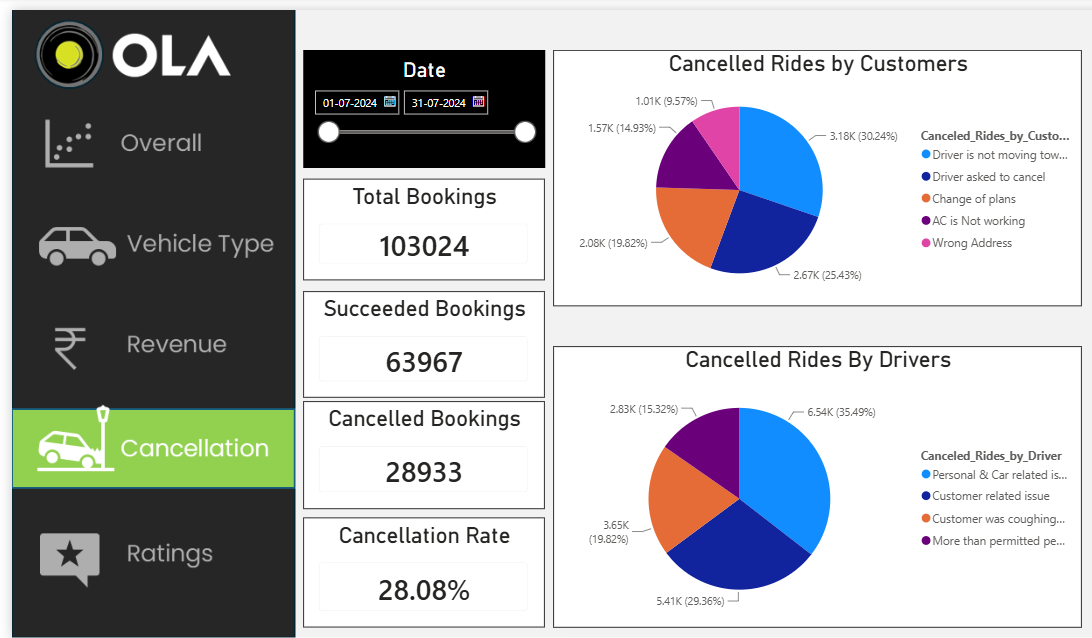

Layout of this report page (visuals, bound fields, positions):
{"tool":"powerbi","page":{"name":"Cancellation","canvas":[1280,720],"ordinal":3},"visuals":[{"type":"actionButton","box":[0,222,323.3,86.9],"z":0},{"type":"actionButton","box":[0,340,322.4,87.1],"z":1000},{"type":"actionButton","box":[0,580,322.4,96.5],"z":2000},{"type":"actionButton","box":[1.2,112.5,322.5,87.5],"z":3000},{"type":"pieChart","title":"Cancelled Rides by Customers","fields":{"Y":["CountNonNull(July.Canceled_Rides_by_Customer)"],"Category":["July.Canceled_Rides_by_Customer"]},"box":[618.6,45.7,604.3,292.9],"z":4000},{"type":"pieChart","title":"Cancelled Rides By Drivers","fields":{"Category":["July.Canceled_Rides_by_Driver"],"Y":["CountNonNull(July.Canceled_Rides_by_Driver)"]},"box":[618.6,384.3,604.3,321.4],"z":5000},{"type":"slicer","title":"Date","fields":{"Values":["July.Date"]},"box":[332.9,45.7,275.7,134.3],"z":6000},{"type":"cardVisual","title":"Total Bookings","fields":{"Data":["July.Total Bokings"]},"box":[332.9,192.9,275.7,115.7],"z":7000},{"type":"cardVisual","title":"Succeeded Bookings","fields":{"Data":["July.Total Bokings"]},"box":[332.9,321.4,275.7,121.4],"z":8000},{"type":"cardVisual","title":"Cancelled Bookings","fields":{"Data":["July.Total Bokings"]},"box":[332.9,447.1,275.7,122.9],"z":9000},{"type":"cardVisual","title":"Cancellation Rate","fields":{"Data":["July.CanceledPercentage"]},"box":[332.9,580,275.7,125.7],"z":10000}]}

Visuals, with their boxes in screenshot pixels (x1, y1, x2, y2):
actionButton: l=9, t=202, r=291, b=278
actionButton: l=9, t=305, r=290, b=381
actionButton: l=9, t=514, r=290, b=599
actionButton: l=10, t=107, r=291, b=183
"Cancelled Rides by Customers" pieChart: l=548, t=48, r=1075, b=304
"Cancelled Rides By Drivers" pieChart: l=548, t=344, r=1075, b=624
"Date" slicer: l=299, t=48, r=539, b=166
"Total Bookings" cardVisual: l=299, t=177, r=539, b=278
"Succeeded Bookings" cardVisual: l=299, t=289, r=539, b=395
"Cancelled Bookings" cardVisual: l=299, t=399, r=539, b=506
"Cancellation Rate" cardVisual: l=299, t=514, r=539, b=624
